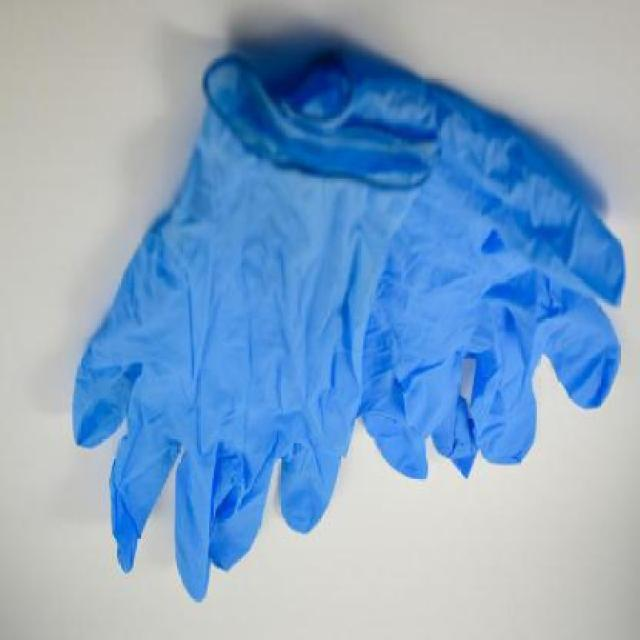gloved_hand: (68, 56, 626, 604)
